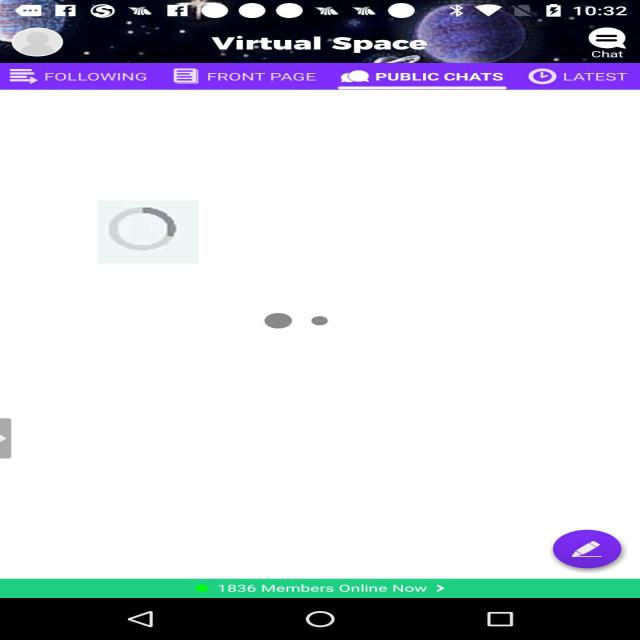misdirection: (98, 200, 198, 264)
